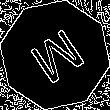M_SE: (22, 21, 88, 89)
